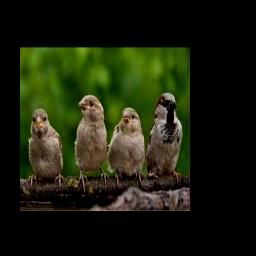Sparrow: (146, 92, 183, 184), (75, 95, 109, 191), (28, 108, 64, 190), (107, 107, 145, 183)
